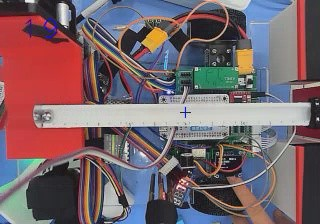ironball: (41, 109, 52, 121)
